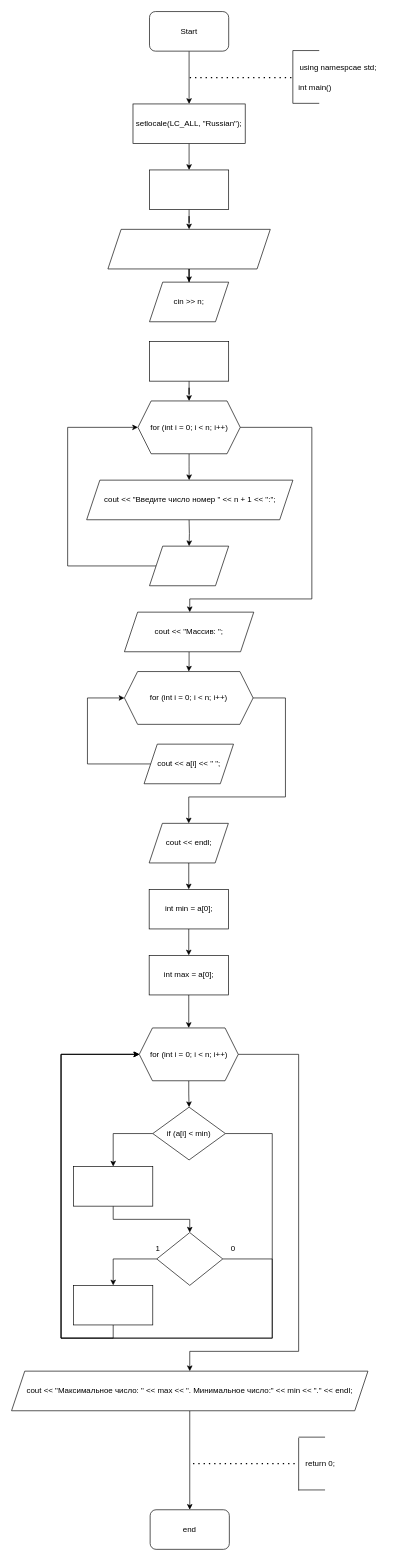
Some shapes in this 393 by 1561 pixel diagram are drawn without their labels. The box of each missing label's shape, as (x1, y1, x2, y2) in pixels:
cin >> a[i];: (149, 545, 229, 586)
cout << "Введите размер массива: ";: (107, 229, 270, 269)
if (a[i] > max): (156, 1232, 223, 1285)
int a[100];: (149, 341, 229, 381)
int n;: (149, 169, 229, 210)
max = a[i];: (73, 1285, 153, 1325)
min = a[i];: (73, 1166, 153, 1206)
